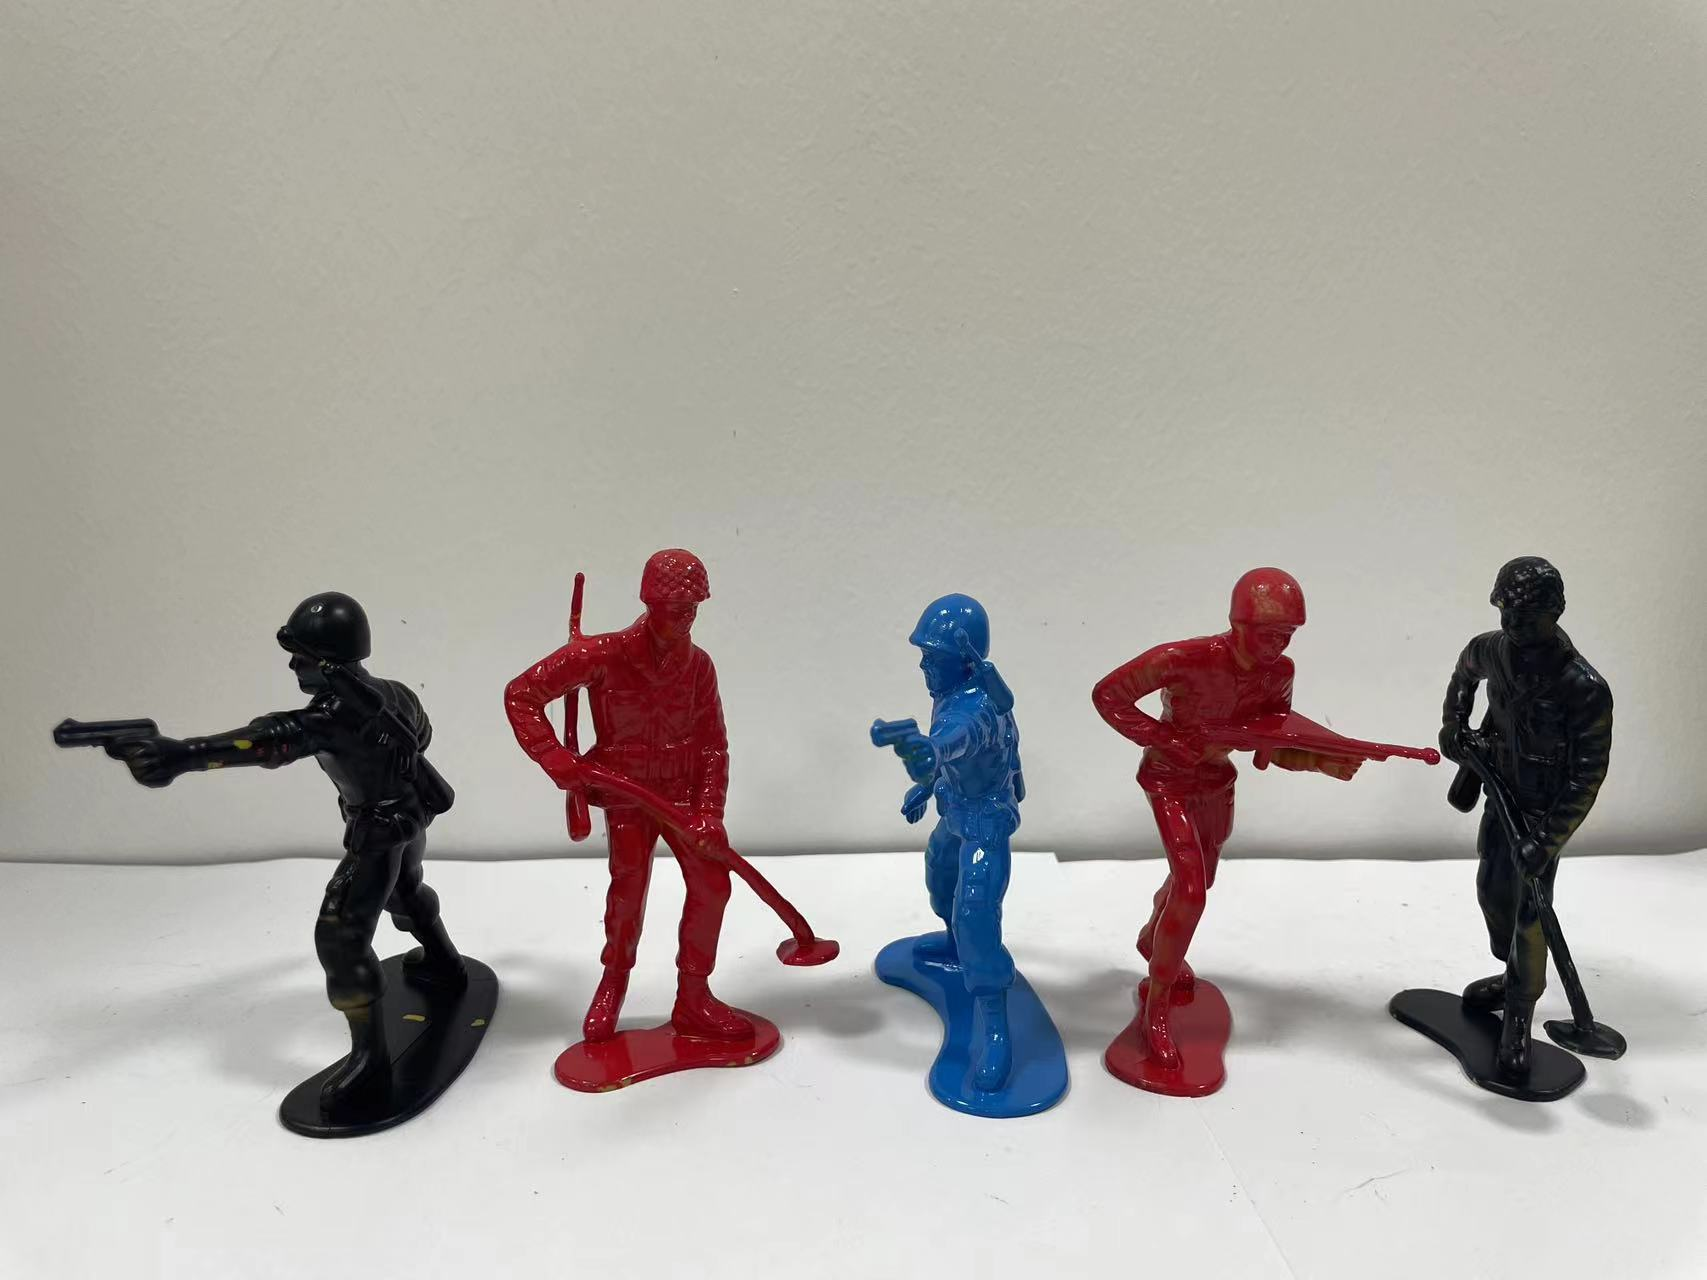black: (55, 567, 508, 1176), (1407, 534, 1702, 1167)
blue: (866, 582, 1077, 1143)
red: (488, 536, 848, 1103), (1062, 534, 1376, 1152)
